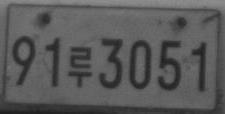0: (128, 39, 152, 90)
1: (187, 41, 213, 91), (41, 37, 66, 87)
3: (97, 37, 123, 89)
5: (157, 39, 182, 91)
9: (11, 34, 36, 86)
루: (67, 46, 93, 87)
